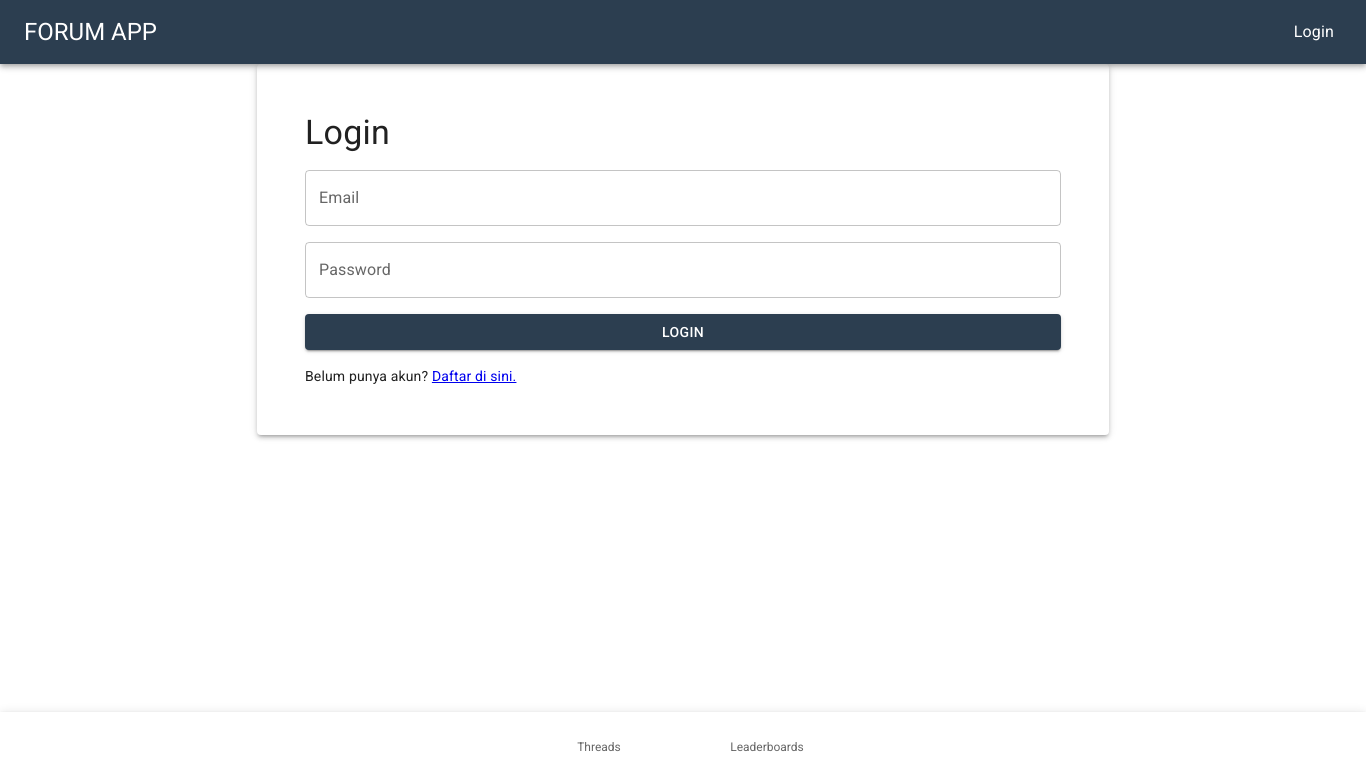
Test: login spec › should display error when email and password are empty
Click the submit button. click: (683, 333)
box: [305,314,1061,351]
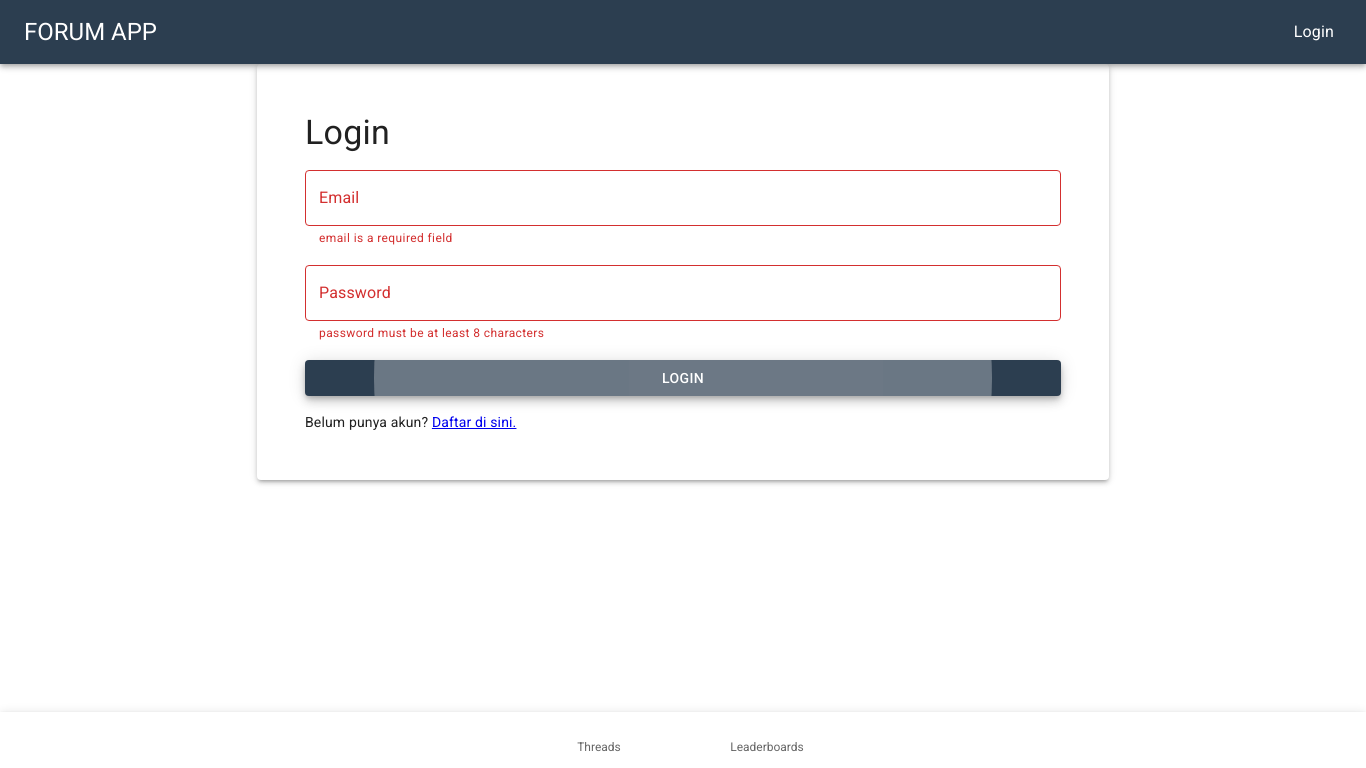
Expected: the text "email is a required field" is shown, [319,231,453,245]
Expected: the text "password must be at least 8 characters" is shown, [319,326,544,340]
